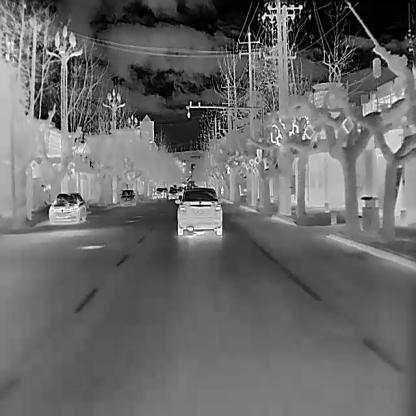car: (173, 185, 222, 235), (47, 191, 87, 223), (119, 188, 135, 206), (155, 187, 167, 200), (168, 187, 178, 201)
